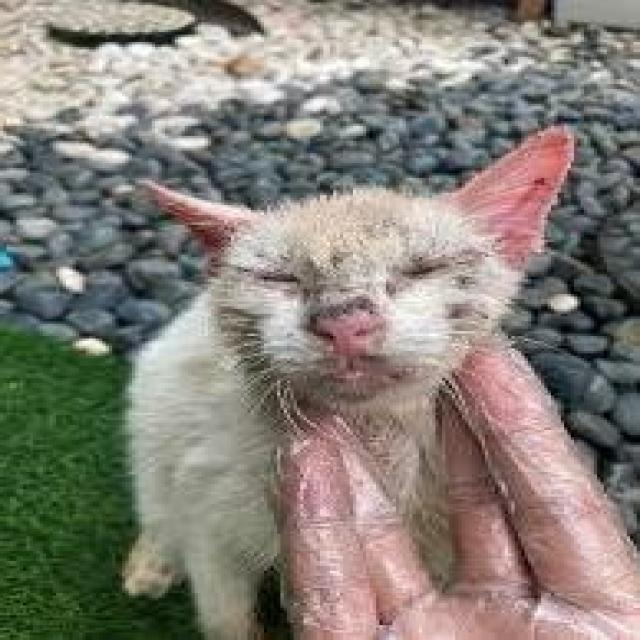ghe: (403, 226, 499, 361), (261, 193, 426, 264)
